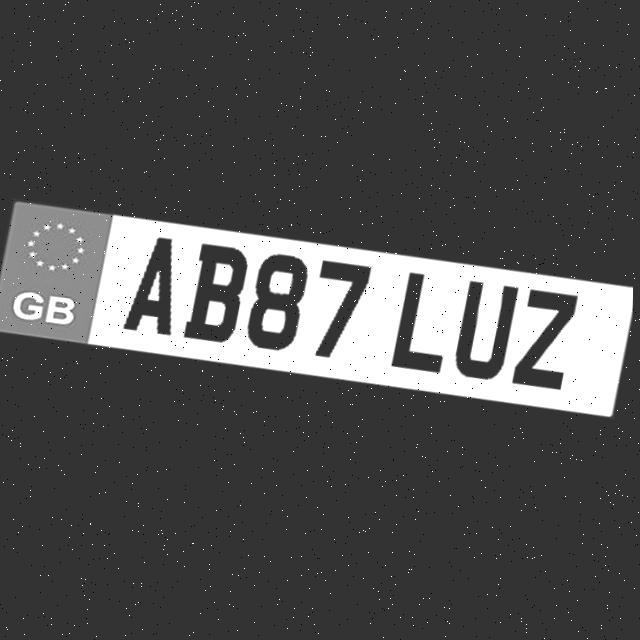license-plates: (0, 201, 633, 416)
